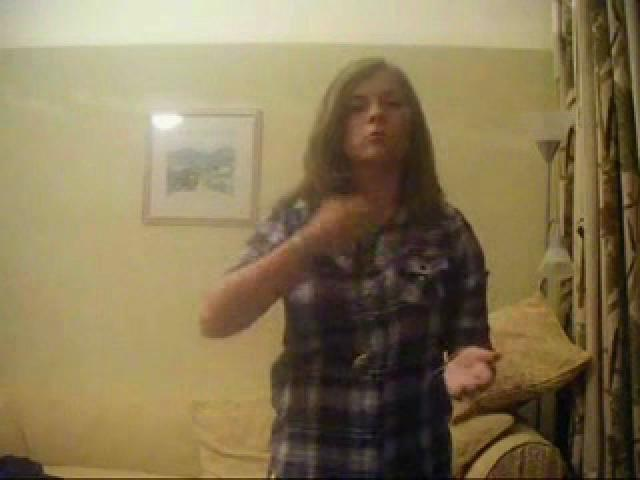F: (200, 58, 491, 478)
